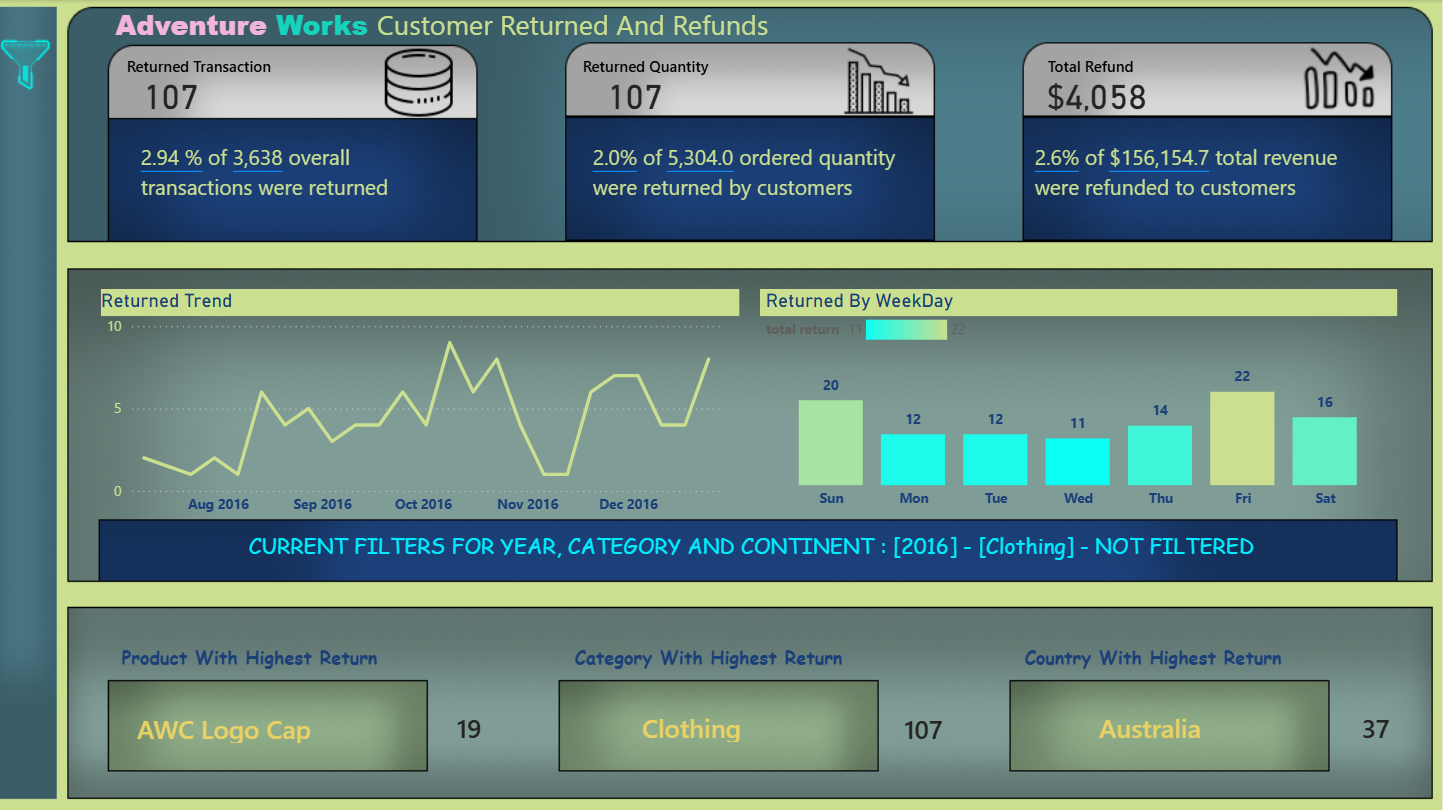

What the dashboard file says about the page in this screenshot:
{"tool":"powerbi","page":{"name":"Returned DashBoard","canvas":[1280,720],"ordinal":7},"visuals":[{"type":"card","fields":{"Values":["measureTable.RETURNED TRANSACTION"]},"box":[95.8,63.8,114.4,39.9],"z":0},{"type":"textbox","box":[121.5,121.5,243,68.3],"z":1000},{"type":"card","fields":{"Values":["measureTable.total return"]},"box":[501.9,63.8,125,39.9],"z":2000},{"type":"textbox","box":[522.3,121.5,290,68.3],"z":3000},{"type":"card","fields":{"Values":["measureTable.TOTAL REFUND"]},"box":[907.1,62.1,133.9,43.4],"z":4000},{"type":"textbox","box":[914.2,121.5,319.2,68.3],"z":5000},{"type":"lineChart","title":"Returned Trend","fields":{"Category":["DYNAMIC CALENDER.Start of Week"],"Y":["measureTable.total return"]},"box":[91.3,256.2,565.7,203.9],"z":6000},{"type":"clusteredColumnChart","title":"Returned By WeekDay","fields":{"Y":["measureTable.total return"],"Category":["DYNAMIC CALENDER.ShortDayName"]},"box":[675.7,256.2,564.8,203.9],"z":7000},{"type":"cardVisual","fields":{"Data":["Min(DIMProducts.ProductName)"]},"box":[99.3,618.9,265.1,52.3],"z":8000},{"type":"cardVisual","fields":{"Data":["measureTable.total return"]},"box":[374.2,618.2,87.8,52.3],"z":9000},{"type":"cardVisual","fields":{"Data":["Min(DIM_Product_Categories.CategoryName)"]},"box":[547.1,618,185.3,52.3],"z":10000},{"type":"cardVisual","fields":{"Data":["measureTable.total return"]},"box":[774.1,617.7,93.1,53.2],"z":11000},{"type":"cardVisual","fields":{"Data":["Min(DIM_Territories.Country)"]},"box":[952.3,618,196.8,52.3],"z":12000},{"type":"cardVisual","fields":{"Data":["measureTable.total return"]},"box":[1177.5,618.2,88.7,52.3],"z":13000},{"type":"textbox","box":[109.1,45.2,152.5,27.5],"z":14000},{"type":"textbox","box":[513.4,45.2,162.3,27.5],"z":15000},{"type":"textbox","box":[925.7,45.2,97.5,27.5],"z":16000},{"type":"textbox","box":[905.3,565.7,272.2,38.1],"z":17000},{"type":"textbox","box":[506.3,565.7,267.8,38.1],"z":18000},{"type":"textbox","box":[104.6,565.7,259.8,38.1],"z":19000},{"type":"textbox","box":[80.7,0,626,45.2],"z":20000},{"type":"actionButton","box":[0,16.8,52.3,79.8],"z":22000},{"type":"card","fields":{"Values":["more with dax.selected slicer"]},"box":[95.8,460.2,1144.7,51.4],"z":24000}]}

Visuals, with their boxes in screenshot pixels (x1, y1, x2, y2), scaled from the page's 1280x720 canvas onto the 1443x810 screenshot:
card - measureTable.RETURNED TRANSACTION: <bbox>108, 72, 237, 117</bbox>
textbox: <bbox>137, 137, 411, 214</bbox>
card - measureTable.total return: <bbox>566, 72, 707, 117</bbox>
textbox: <bbox>589, 137, 916, 214</bbox>
card - measureTable.TOTAL REFUND: <bbox>1023, 70, 1174, 119</bbox>
textbox: <bbox>1031, 137, 1390, 214</bbox>
"Returned Trend" lineChart: <bbox>103, 288, 741, 518</bbox>
"Returned By WeekDay" clusteredColumnChart: <bbox>762, 288, 1398, 518</bbox>
cardVisual - Min(DIMProducts.ProductName): <bbox>112, 696, 411, 755</bbox>
cardVisual - measureTable.total return: <bbox>422, 695, 521, 754</bbox>
cardVisual - Min(DIM_Product_Categories.CategoryName): <bbox>617, 695, 826, 754</bbox>
cardVisual - measureTable.total return: <bbox>873, 695, 978, 755</bbox>
cardVisual - Min(DIM_Territories.Country): <bbox>1074, 695, 1295, 754</bbox>
cardVisual - measureTable.total return: <bbox>1327, 695, 1427, 754</bbox>
textbox: <bbox>123, 51, 295, 82</bbox>
textbox: <bbox>579, 51, 762, 82</bbox>
textbox: <bbox>1044, 51, 1153, 82</bbox>
textbox: <bbox>1021, 636, 1327, 679</bbox>
textbox: <bbox>571, 636, 873, 679</bbox>
textbox: <bbox>118, 636, 411, 679</bbox>
textbox: <bbox>91, 0, 797, 51</bbox>
actionButton: <bbox>0, 19, 59, 109</bbox>
card - more with dax.selected slicer: <bbox>108, 518, 1398, 576</bbox>
